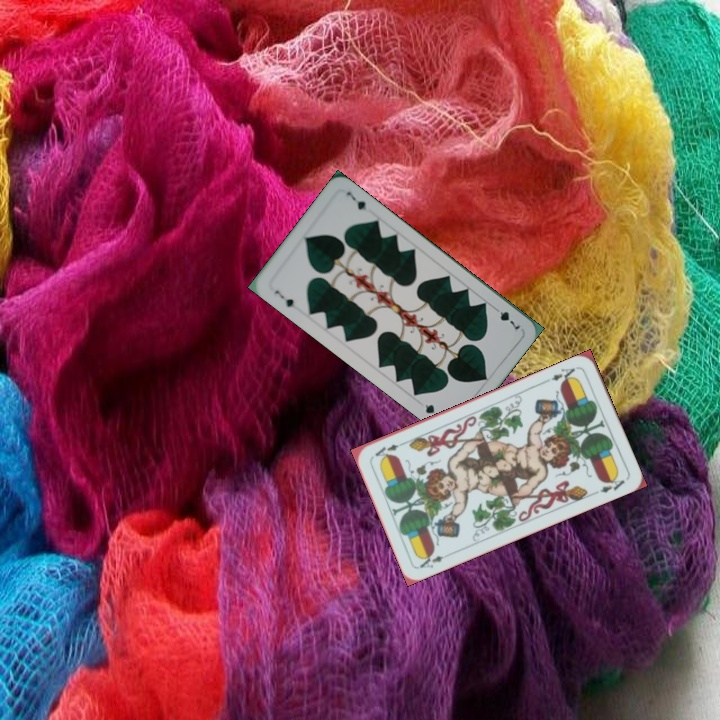EA: (416, 549, 454, 571), (547, 362, 581, 386)
G7: (489, 302, 523, 332), (270, 286, 297, 310)
